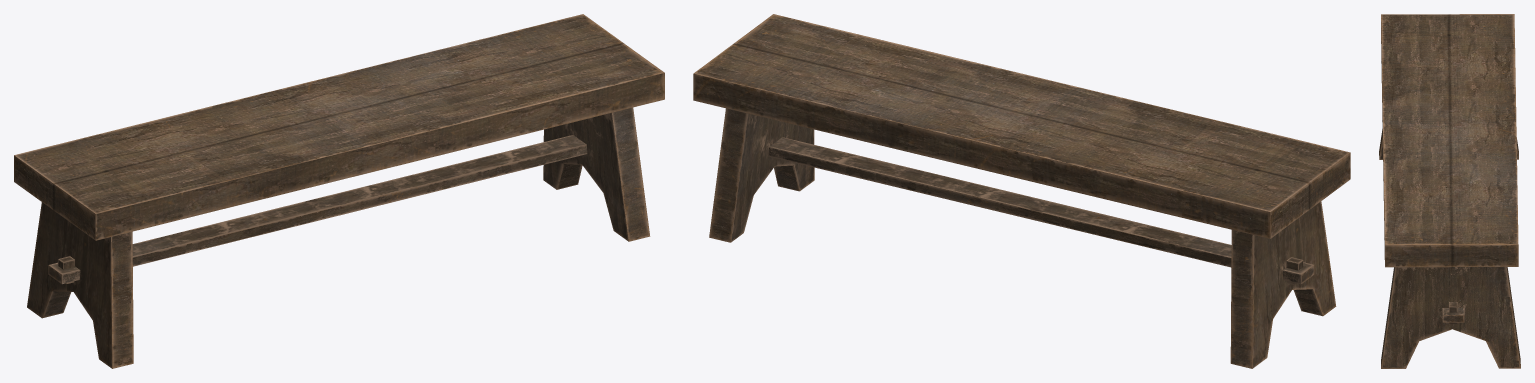
Rendered from SM_Bench.fbx.
3 renders of one model, left to right at view 1: azimuth 30°, elevation 25°; view 2: azimuth 150°, elevation 25°; view 3: azimuth 270°, elevation 25°, orthographic. The views are drawn at different scales.
Visible parts, largest first — view 1: SM_Bench; view 2: SM_Bench; view 3: SM_Bench.
Boxes of the visible parts, bbox=[...] form: SM_Bench: bbox=[14, 14, 664, 368]; SM_Bench: bbox=[693, 14, 1350, 368]; SM_Bench: bbox=[1379, 14, 1520, 368].
Bounding box in the file's own units: 211 × 54.81 × 55.71.
